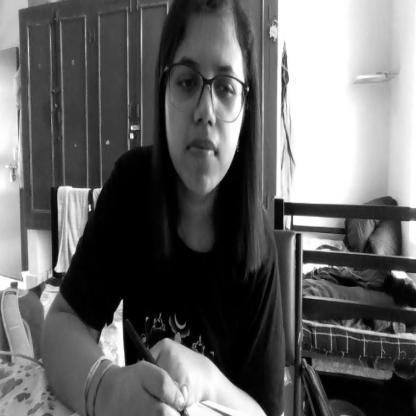Normal: (153, 3, 255, 216)
